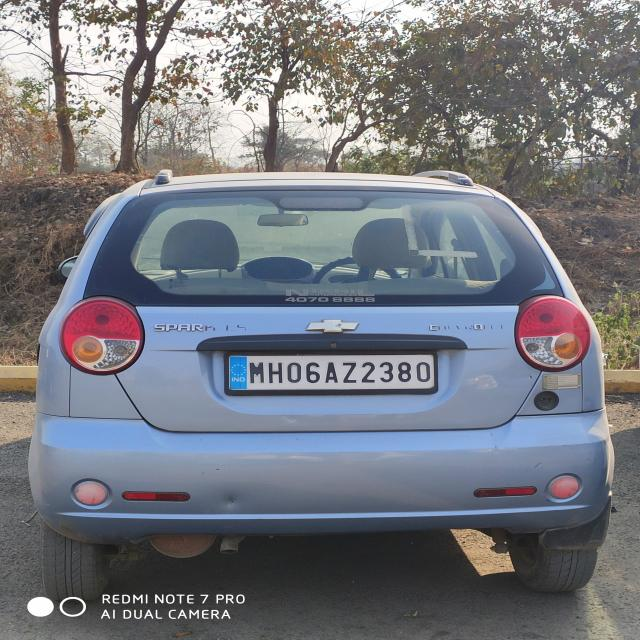Number-Plate: (226, 356, 440, 388)
